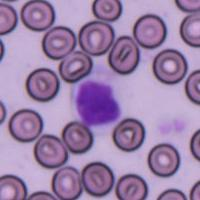L: (70, 76, 127, 134)
